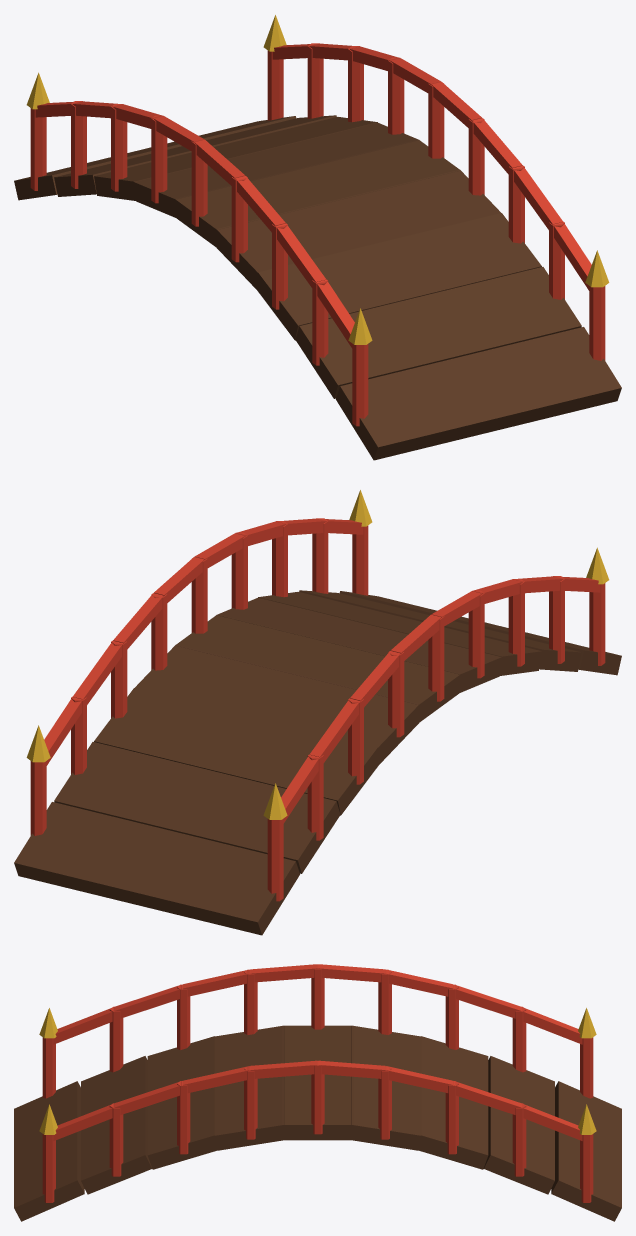
The model's file is bridge.glb.
The picture shows the model from 3 angles, top to bottom: view 1: azimuth 30°, elevation 25°; view 2: azimuth 150°, elevation 25°; view 3: azimuth 270°, elevation 25°; orthographic projection. The views are drawn at different scales.
Visible parts, largest first — view 1: Cube, Cube.001, Cube.002, Cube.003, Cube.004, Cube.005, Cube.006, Cube.007, Cube.008, Cylinder, Cylinder.001, Cylinder.012 (+27 smaller); view 2: Cube.008, Cube.007, Cube.006, Cube.005, Cube.004, Cube.003, Cube.002, Cube.001, Cube, Cylinder.016, Cylinder.017, Cylinder.004 (+27 smaller); view 3: Cube.004, Cube.005, Cube.003, Cube, Cube.008, Cube.002, Cube.006, Cube.001, Cube.007, Cylinder.003, Cylinder.015, Cube.010 (+31 smaller).
Boxes of the visible parts, x1,y1,x2,y2 form: Cube: (336,327,621,460); Cube.001: (295,267,581,398); Cube.002: (255,213,541,340); Cube.003: (214,170,500,288); Cube.004: (175,139,460,246); Cube.005: (134,122,419,218); Cube.006: (94,117,377,200); Cube.007: (54,115,336,196); Cube.008: (14,116,296,200); Cylinder: (352,343,368,426); Cylinder.001: (589,286,605,360); Cylinder.012: (111,104,127,191); Cube.008: (14,802,299,935); Cube.007: (54,742,340,873); Cube.006: (94,688,379,815); Cube.005: (135,645,419,763); Cube.004: (175,614,460,722); Cube.003: (216,597,501,692); Cube.002: (258,592,541,675); Cube.001: (299,590,581,671); Cube: (339,591,621,675); Cylinder.016: (267,818,283,901); Cylinder.017: (30,761,46,835); Cylinder.004: (508,579,524,666); Cube.004: (282,1025,353,1140); Cube.005: (349,1025,421,1150); Cube.003: (214,1025,286,1150); Cube: (14,1081,84,1221); Cube.008: (551,1081,621,1221); Cube.002: (147,1036,219,1169); Cube.006: (416,1036,488,1169); Cube.001: (81,1056,152,1194); Cube.007: (483,1056,554,1194); Cylinder.003: (109,1103,123,1176); Cylinder.015: (512,1103,526,1176); Cube.010: (114,984,181,1018).
Size of the model in its own units: 1.46 by 1.04 by 3.62.
